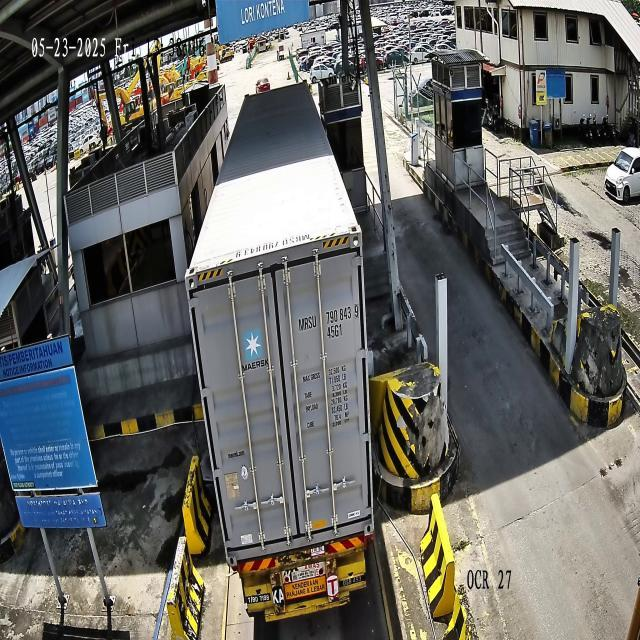ISO: (327, 324, 343, 341)
container_number: (298, 304, 360, 332)
